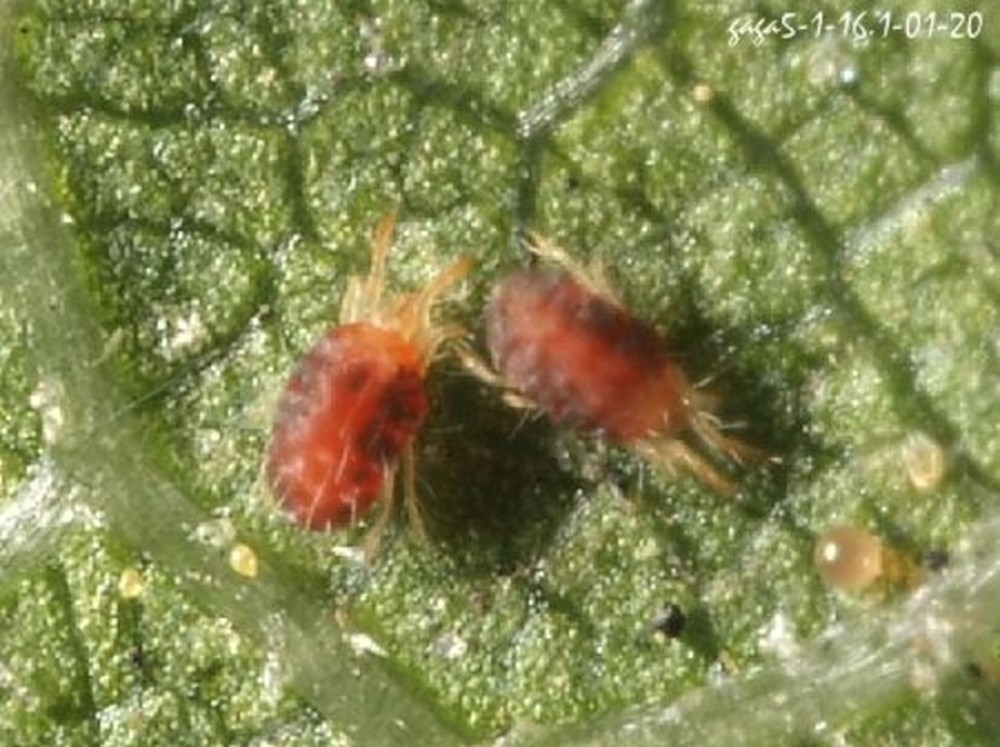Aracnido Rojo: (464, 225, 804, 523), (227, 195, 491, 549)
